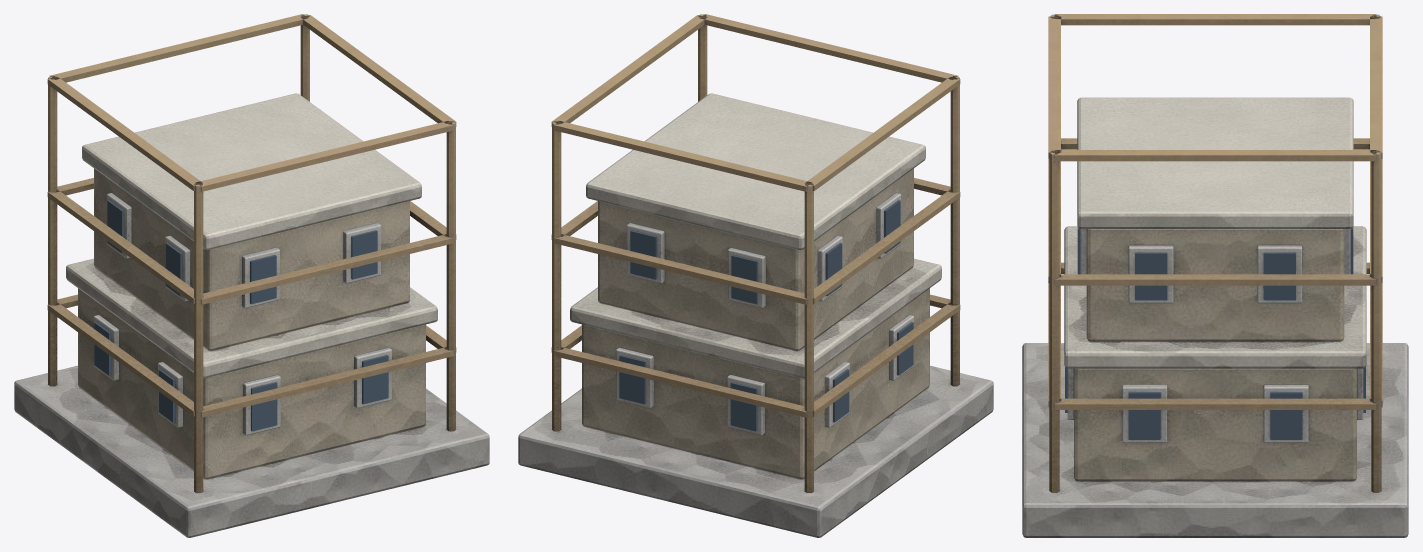
The model's file is jahr2.glb.
The picture shows the model from 3 angles, left to right: view 1: azimuth 30°, elevation 25°; view 2: azimuth 150°, elevation 25°; view 3: azimuth 270°, elevation 25°; orthographic projection. The views are drawn at different scales.
Visible parts, largest first — view 1: jahr2, jahr2_details; view 2: jahr2, jahr2_details; view 3: jahr2, jahr2_details.
Boxes of the visible parts, x1,y1,x2,y2 form: jahr2: [14, 14, 489, 537]; jahr2_details: [94, 200, 388, 431]; jahr2: [518, 14, 993, 537]; jahr2_details: [619, 200, 913, 431]; jahr2: [1022, 14, 1408, 537]; jahr2_details: [1065, 227, 1365, 439].
Bounding box in the file's own units: 0.6 × 0.64 × 0.6.
2 materials, 1 textured.
